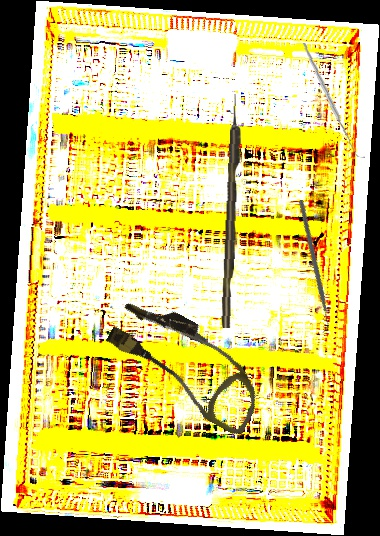Cannula: (96, 289, 278, 438)
Chopper: (244, 199, 379, 335)
Hook Surgical: (292, 43, 375, 158), (219, 93, 244, 329)
